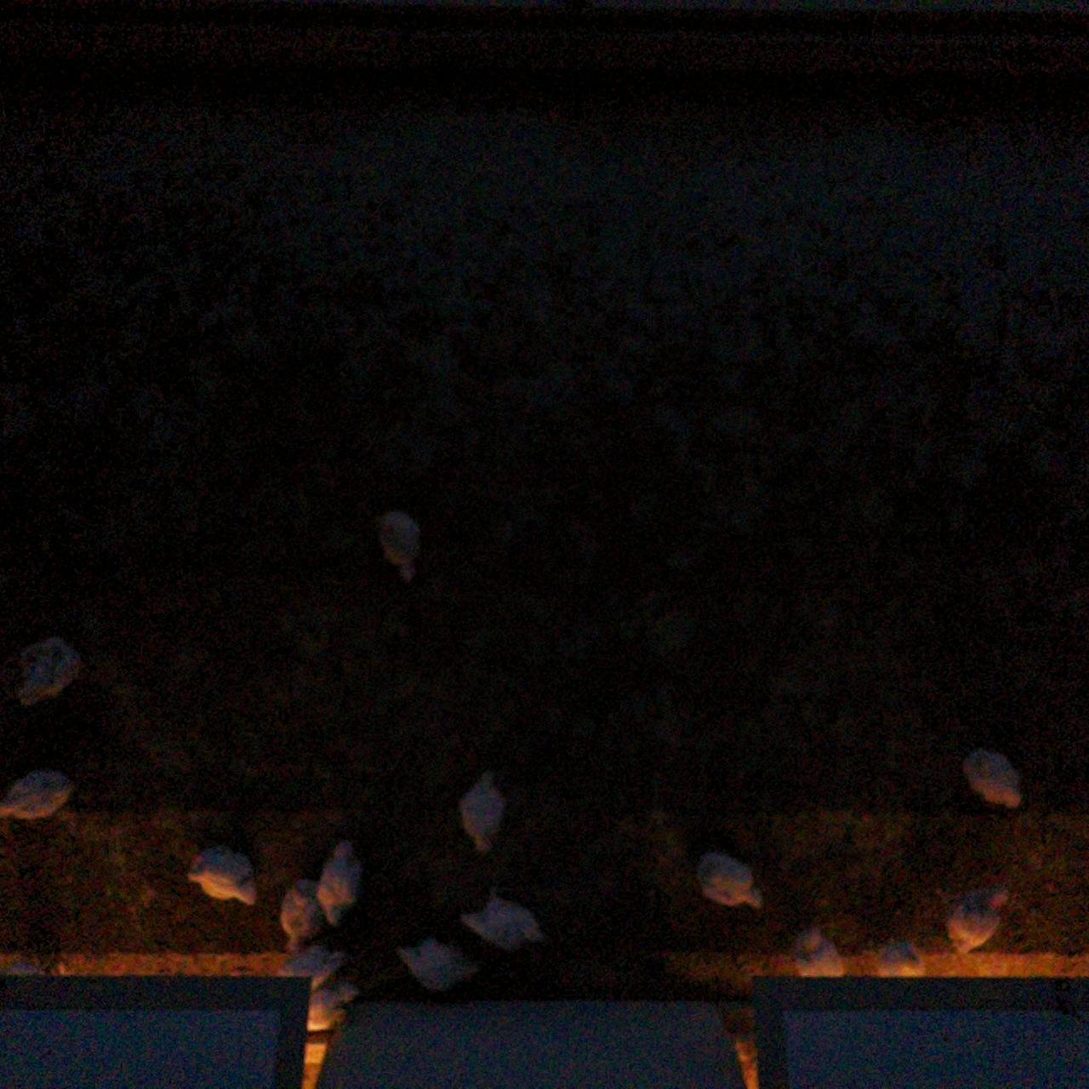chicken: (5, 627, 86, 714), (456, 885, 549, 953), (392, 932, 483, 1000), (176, 840, 264, 908), (688, 846, 769, 915), (455, 764, 513, 859), (312, 832, 366, 932), (945, 880, 1013, 958), (0, 764, 79, 829), (954, 745, 1026, 816), (369, 503, 428, 588), (277, 874, 329, 955), (275, 941, 350, 994), (294, 980, 361, 1037), (791, 919, 847, 984), (869, 929, 929, 985), (0, 950, 51, 993)
